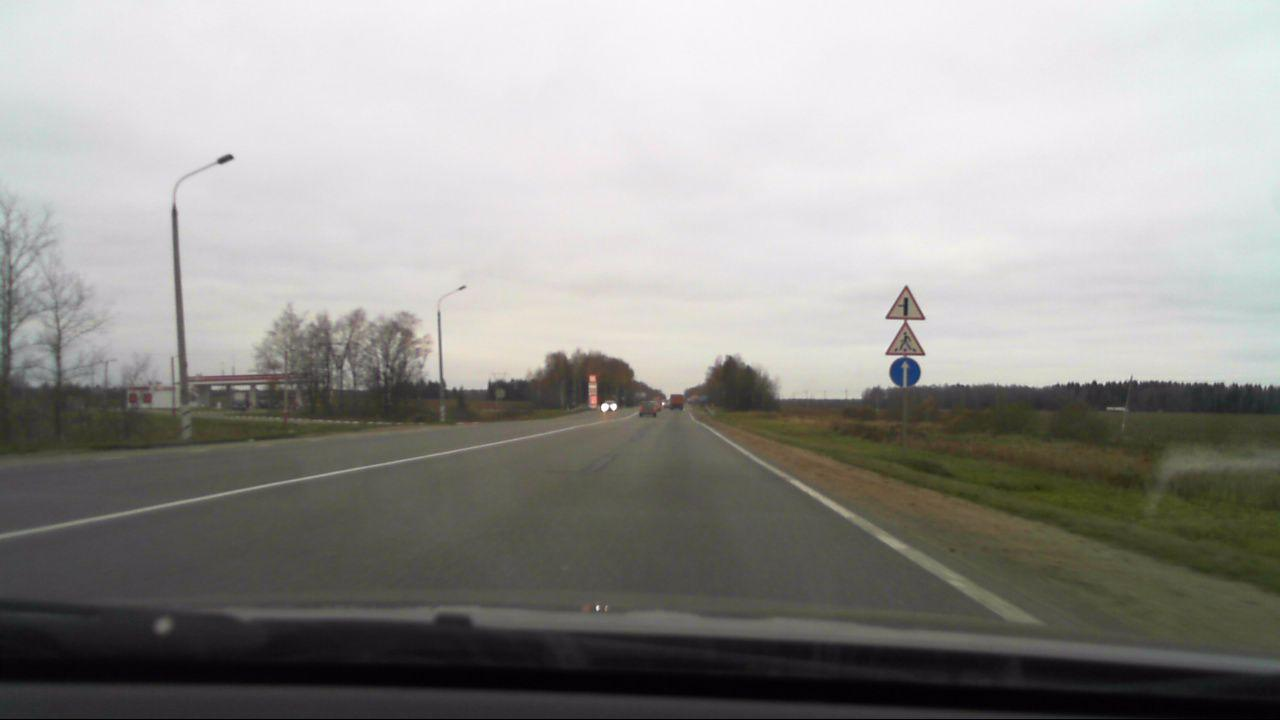1_22: (884, 323, 926, 358)
2_3_3: (882, 285, 927, 321)
4_1_1: (890, 358, 922, 386)
